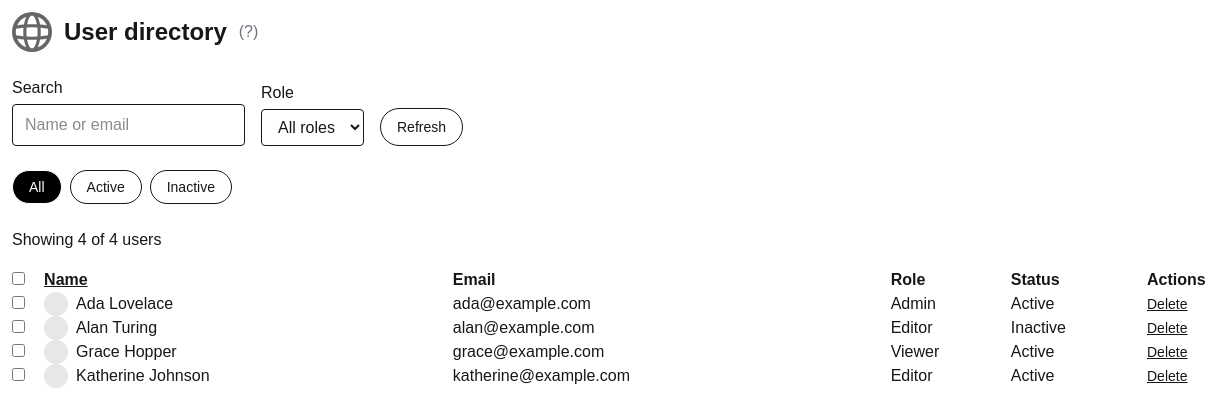
row selection › goes unchecked -> indeterminate -> checked
This screenshot has width=1222, height=419.
Expected: the checkbox named "Select all users" is not checked, [12,272,25,285]
Click the checkbox named "Select Ada Lovelace".
click(18, 302)  # box [12,296,25,309]
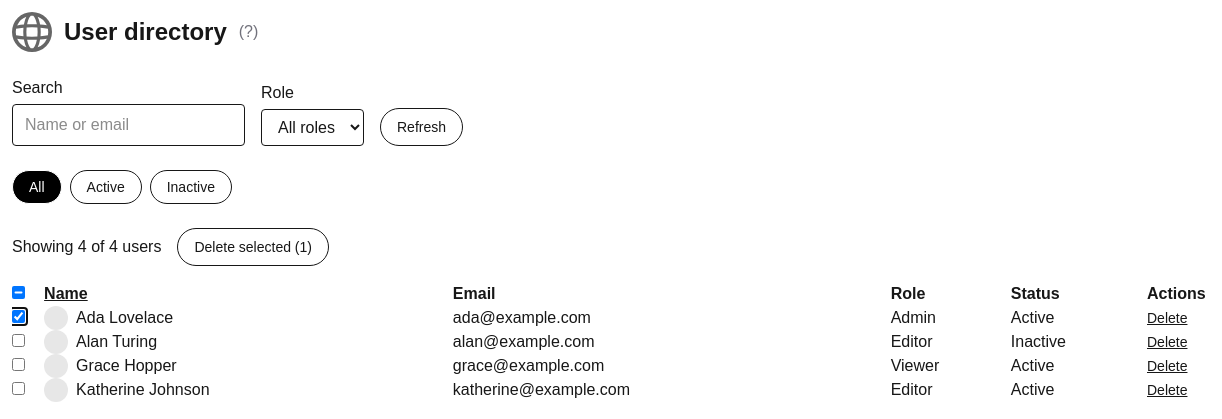
Expected: the button "Delete selected (1)" is shown, [178,228,329,266]
Click the checkbox named "Select all users".
click(18, 292)  # box [12,286,25,299]
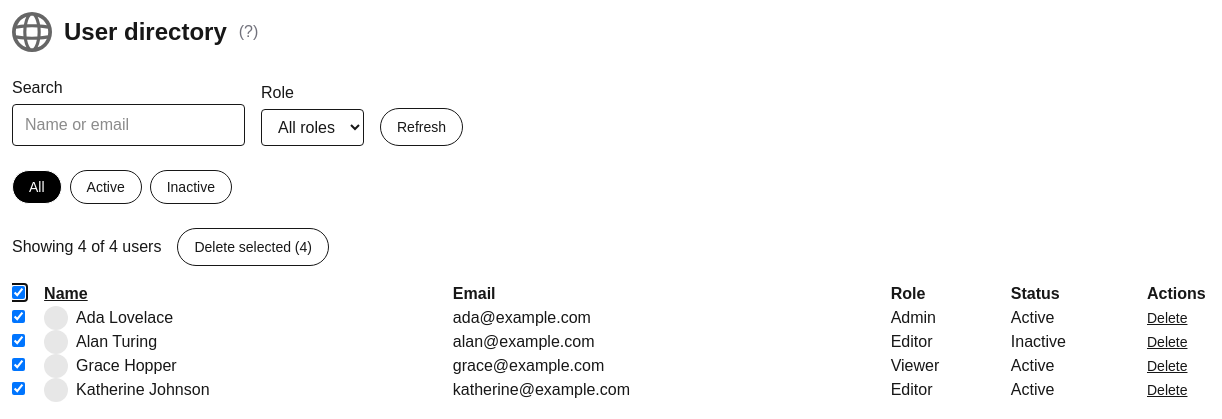
Expected: the checkbox named "Select all users" is checked
Expected: the checkbox named "Select Ada Lovelace" is checked, [12,310,25,323]
Expected: the checkbox named "Select Alan Turing" is checked, [12,334,25,347]
Click the checkbox named "Select all users".
click(18, 292)  # box [12,286,25,299]
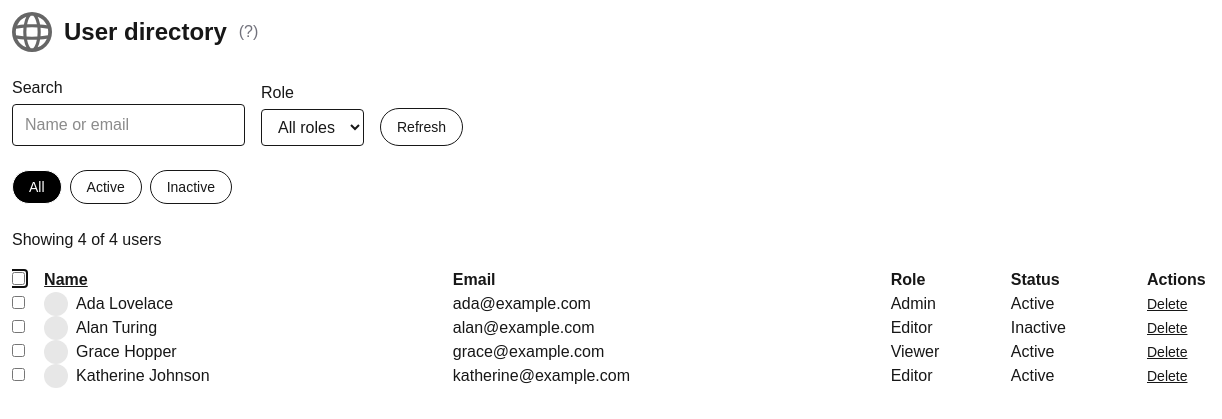
Expected: the checkbox named "Select all users" is not checked, [12,272,25,285]
Expected: the button "Delete selected" is gone
